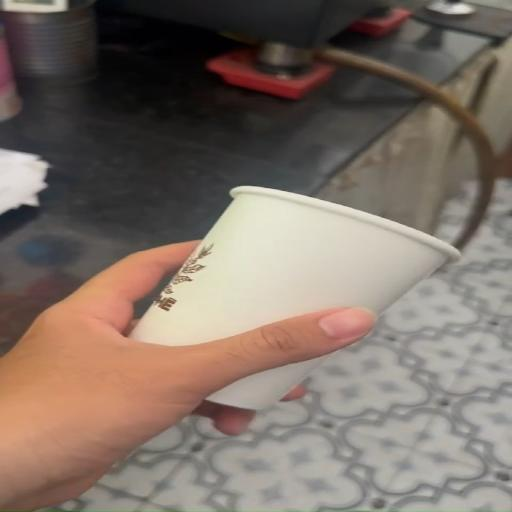Ly_giay: (131, 186, 459, 345), (208, 357, 324, 409)
